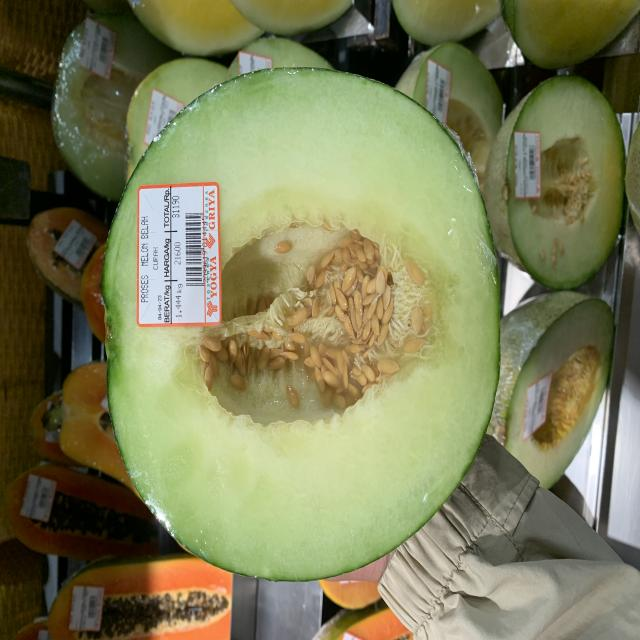melon: (43, 135, 432, 640)
pawpaw: (0, 54, 58, 290)
